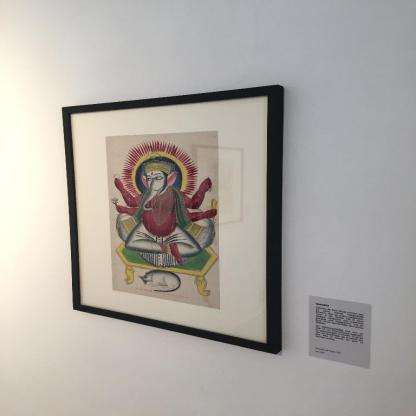Picture-frame: (62, 84, 283, 356)
